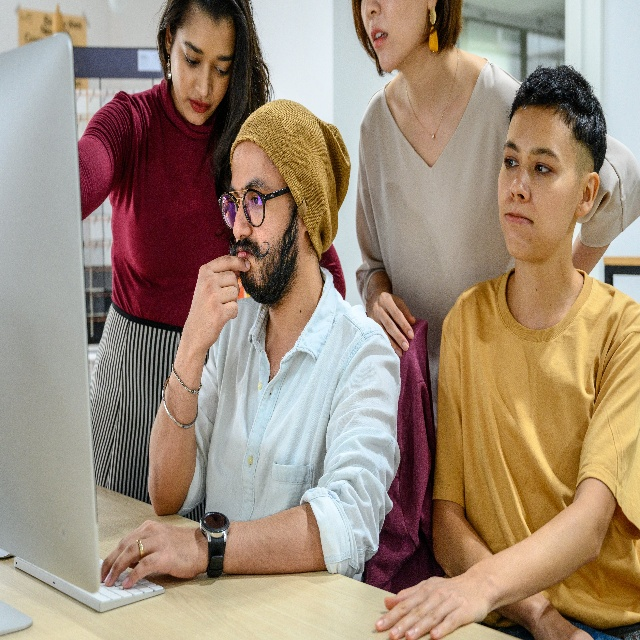Gafas: (217, 183, 288, 234)
Sin_guantes: (375, 556, 492, 640), (101, 511, 209, 597), (191, 252, 250, 347), (366, 289, 416, 350), (535, 603, 593, 640)
